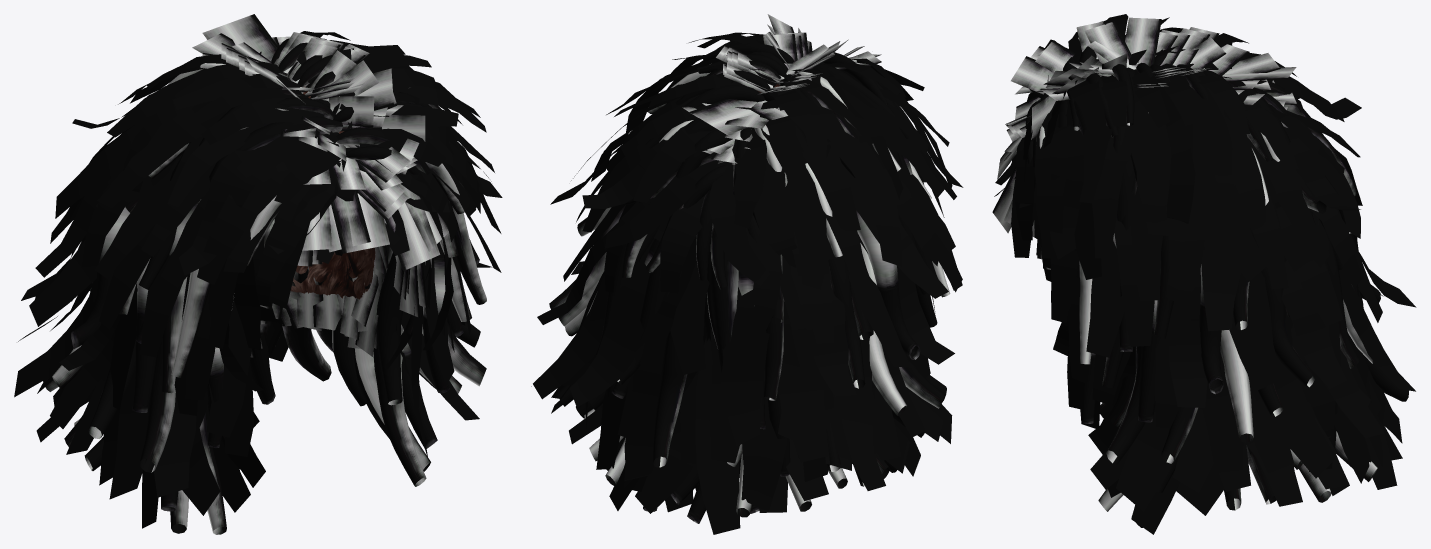
Rendered from beatricehair.fbx.
3 views of the same model, side by side, from view 1: azimuth 30°, elevation 25°; view 2: azimuth 150°, elevation 25°; view 3: azimuth 270°, elevation 25° (orthographic). The views are drawn at different scales.
Parts seen in each view (by area): view 1: Hair_BEA, HairCap_BEA; view 2: Hair_BEA; view 3: Hair_BEA.
Part boxes in pixels (x1,y1,x2,y2): Hair_BEA: [14, 14, 502, 534]; HairCap_BEA: [290, 86, 375, 299]; Hair_BEA: [531, 14, 963, 534]; Hair_BEA: [992, 14, 1416, 534].
Bounding box in the file's own units: 36.93 × 36.25 × 32.15.
